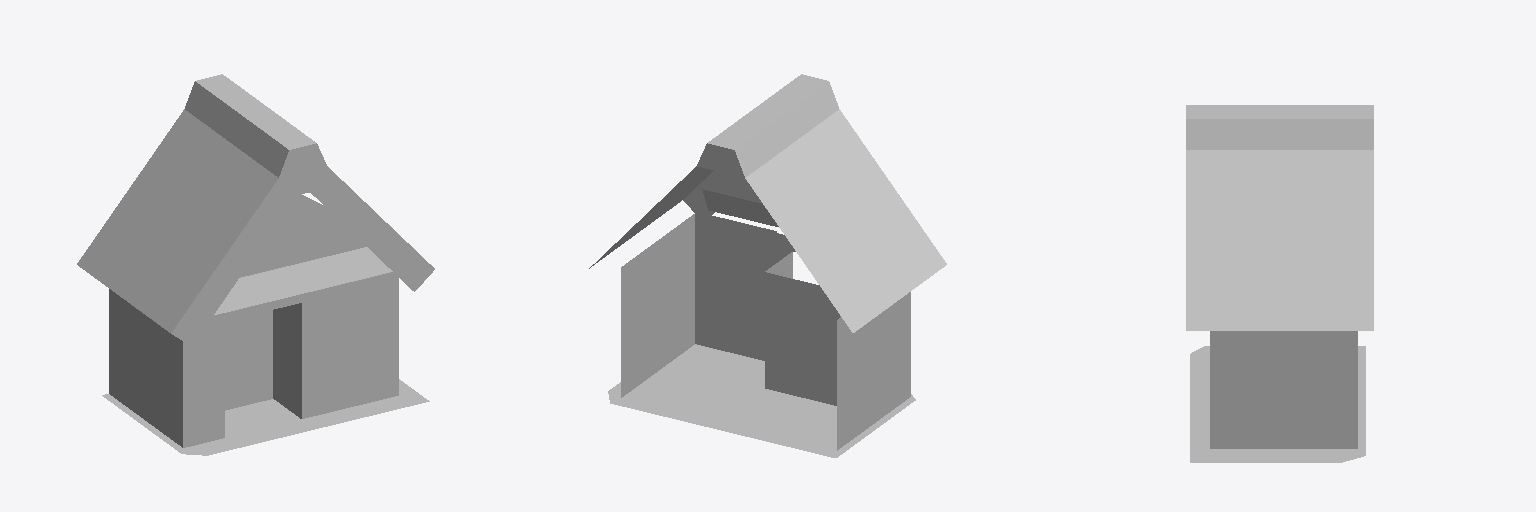
Rendered from Celestic Town House.obj.
The picture shows the model from 3 angles: view 1: azimuth 30°, elevation 25°; view 2: azimuth 150°, elevation 25°; view 3: azimuth 270°, elevation 25°; orthographic projection.
Visible parts, largest first — view 1: polygon2, polygon1; view 2: polygon2, polygon1, polygon0; view 3: polygon2, polygon1.
Part boxes in pixels (bbox=[...]): polygon2: bbox=[77, 74, 434, 447]; polygon1: bbox=[102, 379, 429, 455]; polygon2: bbox=[589, 74, 946, 450]; polygon1: bbox=[608, 344, 915, 457]; polygon0: bbox=[704, 214, 776, 344]; polygon2: bbox=[1186, 105, 1373, 448]; polygon1: bbox=[1190, 346, 1365, 462].
Size of the model in its own units: 76 by 79 by 47.